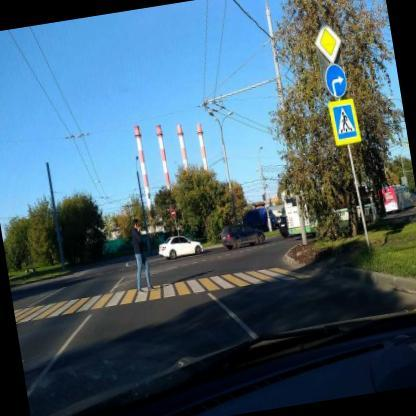road_sign: (328, 100, 361, 144), (315, 25, 341, 64), (325, 64, 347, 97)
